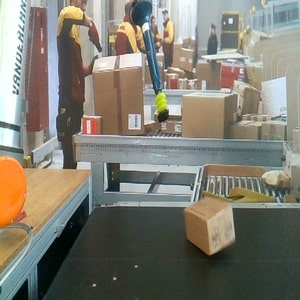box: (184, 196, 236, 257)
